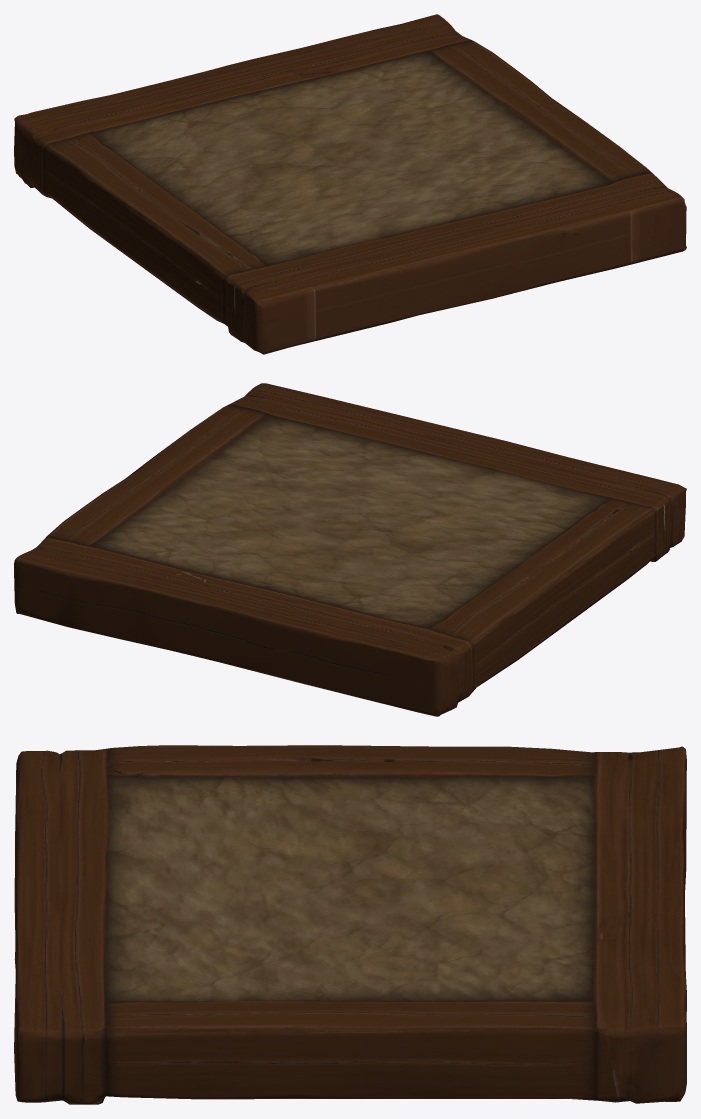
Rendered from blk_dungeon_ceiling.glb.
3 views of the same model, one above another, from view 1: azimuth 30°, elevation 25°; view 2: azimuth 150°, elevation 25°; view 3: azimuth 270°, elevation 25° (orthographic). The views are drawn at different scales.
Visible parts, largest first — view 1: Mesh0; view 2: Mesh0; view 3: Mesh0.
Boxes of the visible parts, box(x1,y1,x2,y2) form: Mesh0: box(14, 14, 686, 354); Mesh0: box(14, 383, 686, 716); Mesh0: box(14, 745, 686, 1104).
Bounding box in the file's own units: 1.89 × 0.2648 × 1.89.
1 material, 1 textured.
